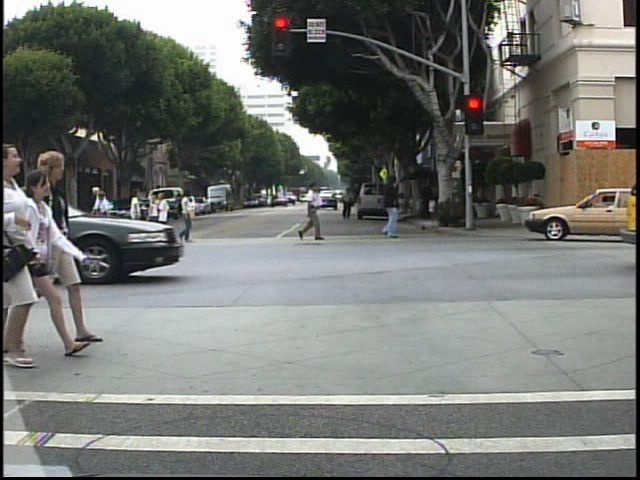person: (34, 145, 93, 349), (8, 163, 64, 364), (371, 169, 405, 242), (299, 177, 329, 242), (124, 189, 150, 252), (96, 188, 122, 246), (175, 188, 198, 246), (88, 182, 106, 246), (340, 184, 356, 220)
